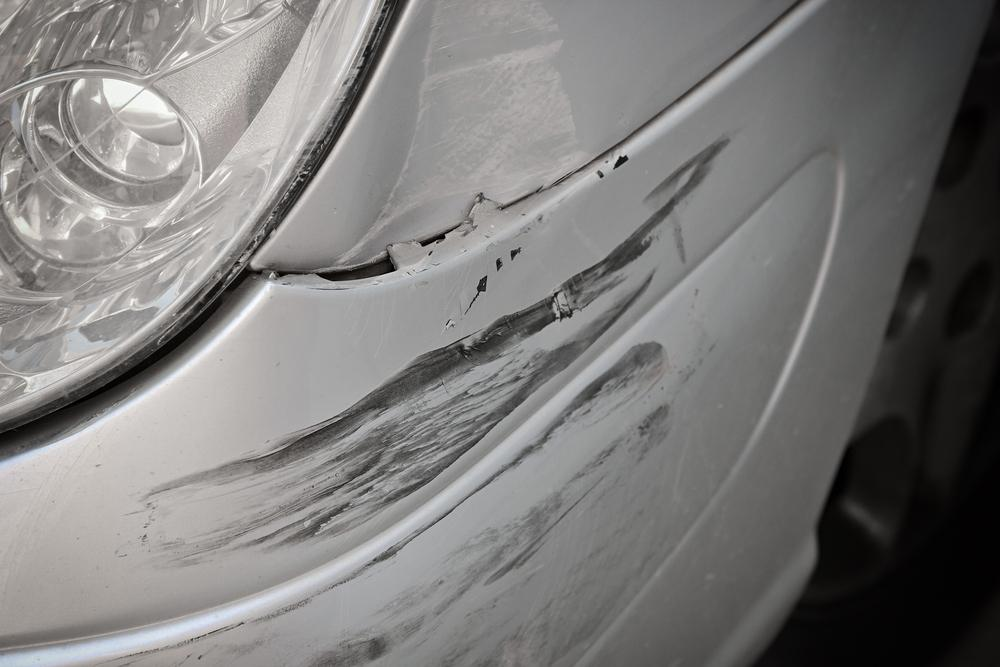dent: (349, 0, 575, 259)
scratch: (91, 130, 736, 667)
